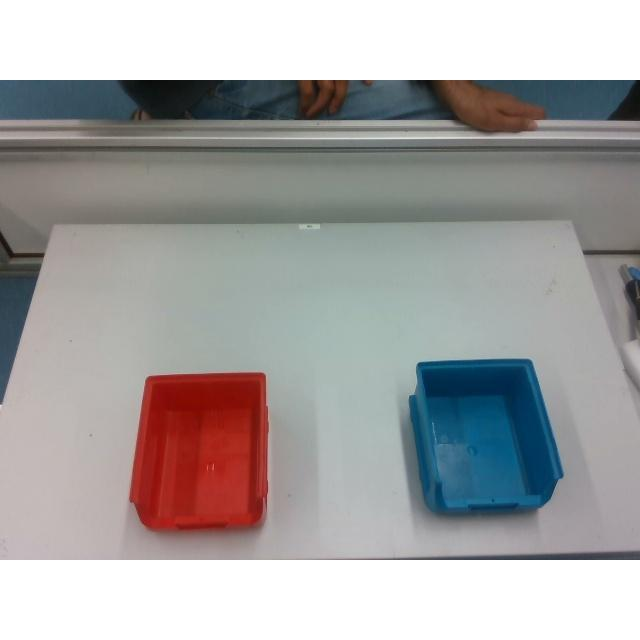container_box_blue: (408, 358, 564, 514)
container_box_red: (129, 372, 267, 528)
